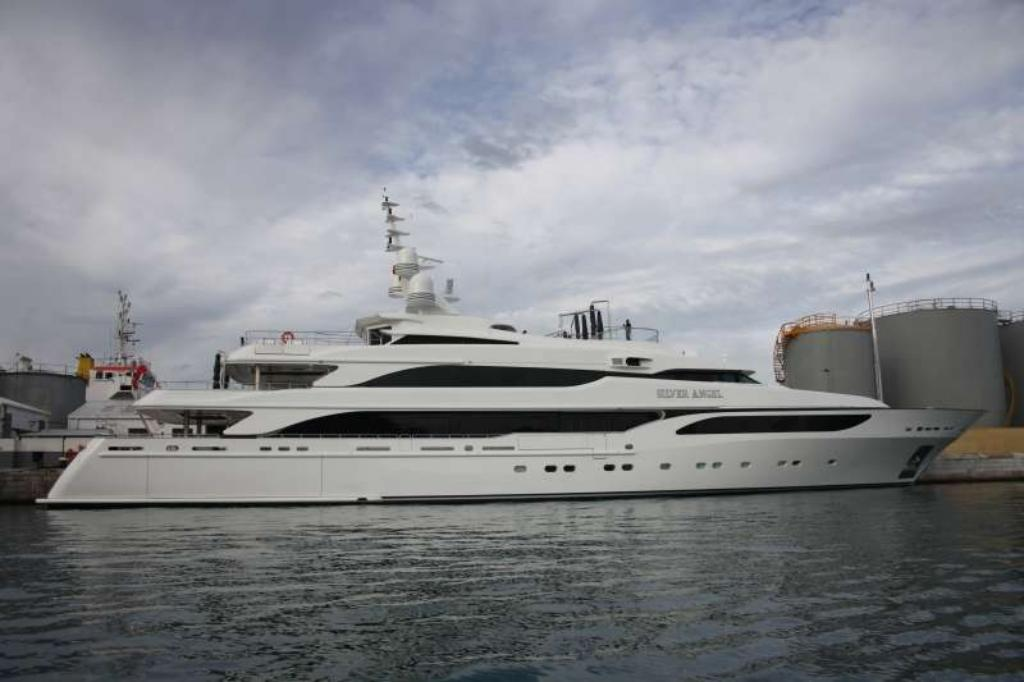PassengerShip: (18, 188, 994, 506)
